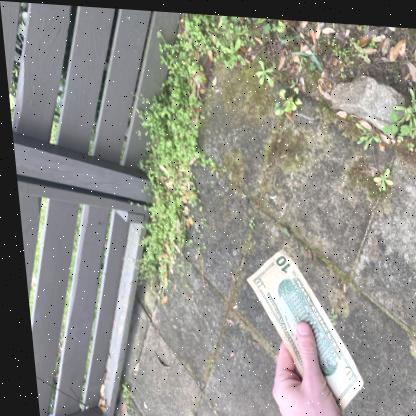ten-back: (242, 248, 361, 416)
